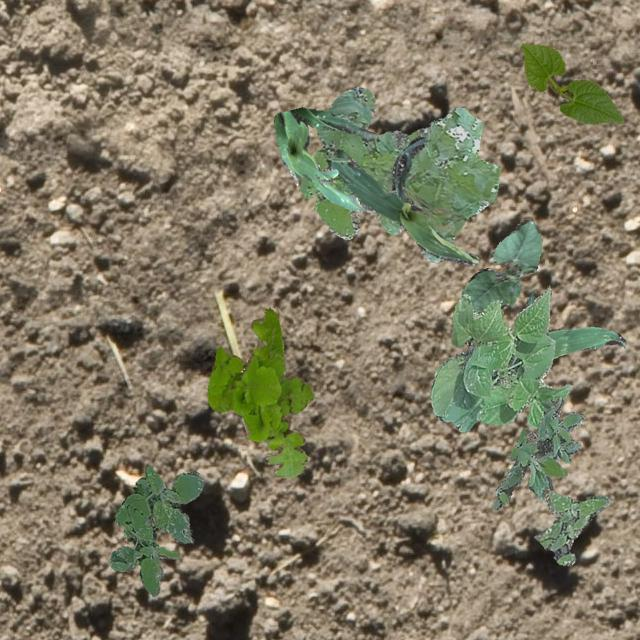crop: (430, 286, 570, 432), (330, 136, 478, 264), (273, 106, 375, 212), (520, 43, 622, 123), (460, 218, 540, 314), (524, 290, 624, 356)
weed: (298, 85, 498, 262), (206, 306, 312, 476), (109, 464, 202, 596), (492, 396, 584, 508), (534, 488, 608, 564)
